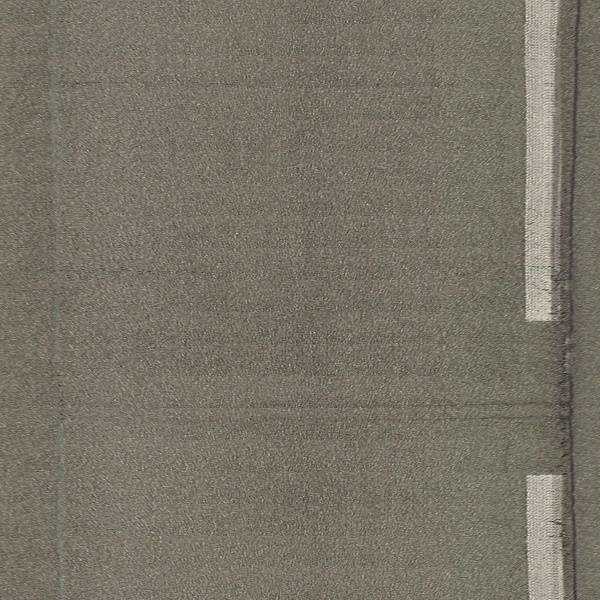road_damage: (295, 395, 549, 410)
